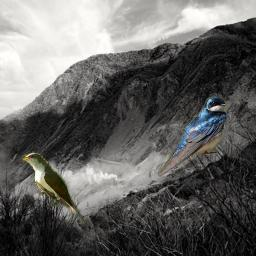Cuckoo: (21, 151, 89, 230)
Swallow: (158, 94, 229, 178)
